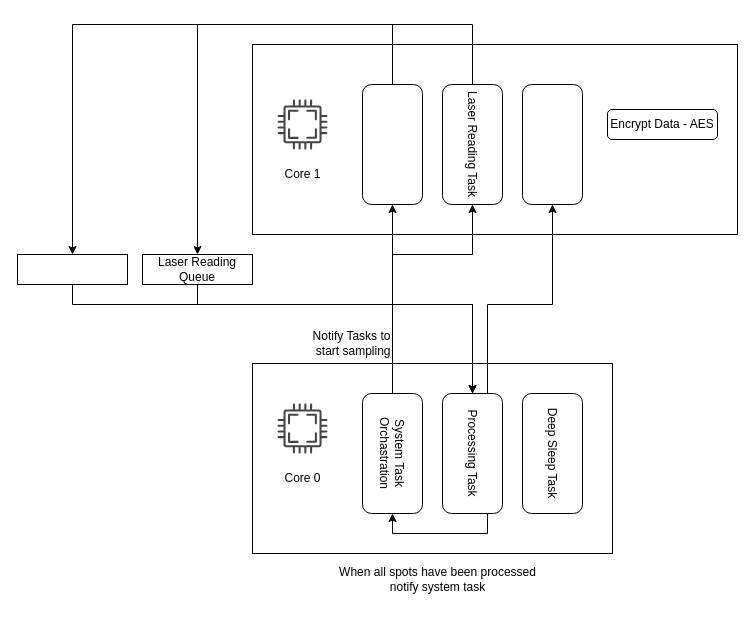
The diagram is 755 pixels wide and 617 high, and some of its shapes have lost their labels. Each missing label, with the box of its shape:
Ultra Sonic Reading Task: (362, 84, 422, 204)
Ultrasonic Reading Queue: (16, 254, 128, 284)
WIFI MQTT TASK: (522, 84, 582, 204)
